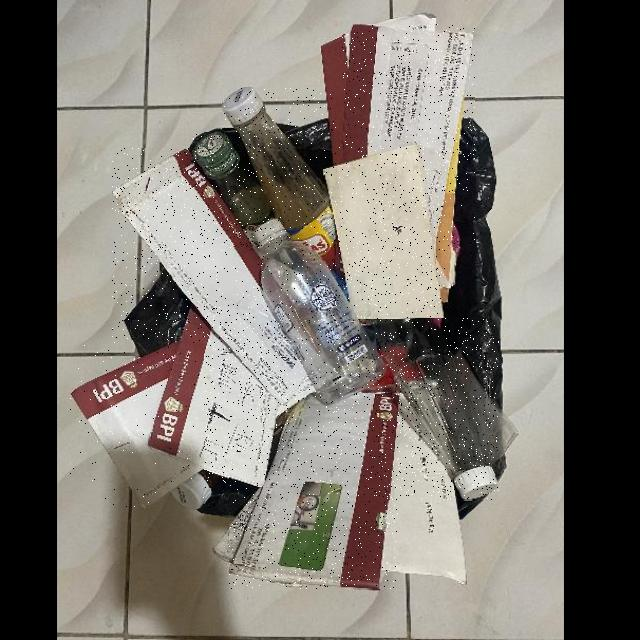glass: (372, 318, 499, 500), (222, 87, 336, 270), (193, 133, 275, 246)
paper: (112, 148, 326, 405), (230, 393, 398, 589), (342, 25, 475, 247), (146, 304, 279, 488), (71, 340, 204, 508), (325, 144, 445, 319)
plastic: (253, 219, 387, 402)
